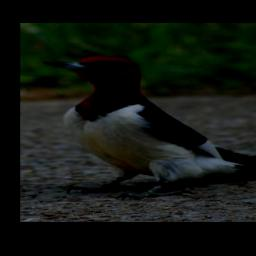Woodpecker: (36, 55, 256, 198)
